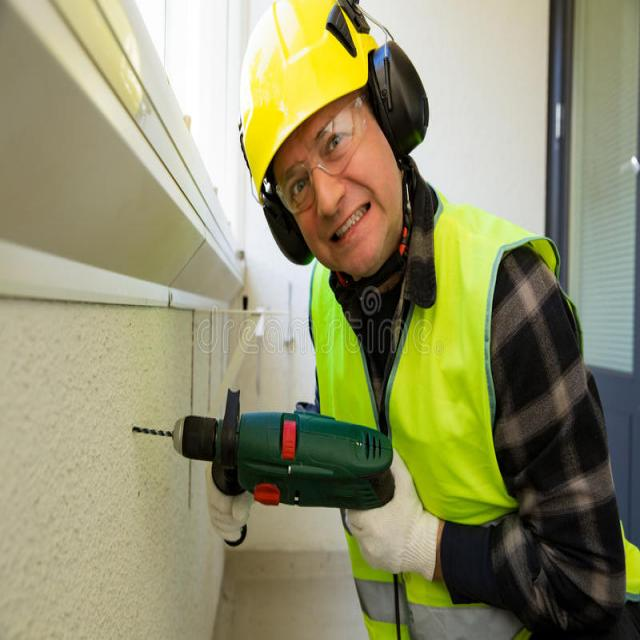Reflective-Jacket: (305, 206, 560, 633)
Safety-Helmet: (240, 5, 387, 193)
